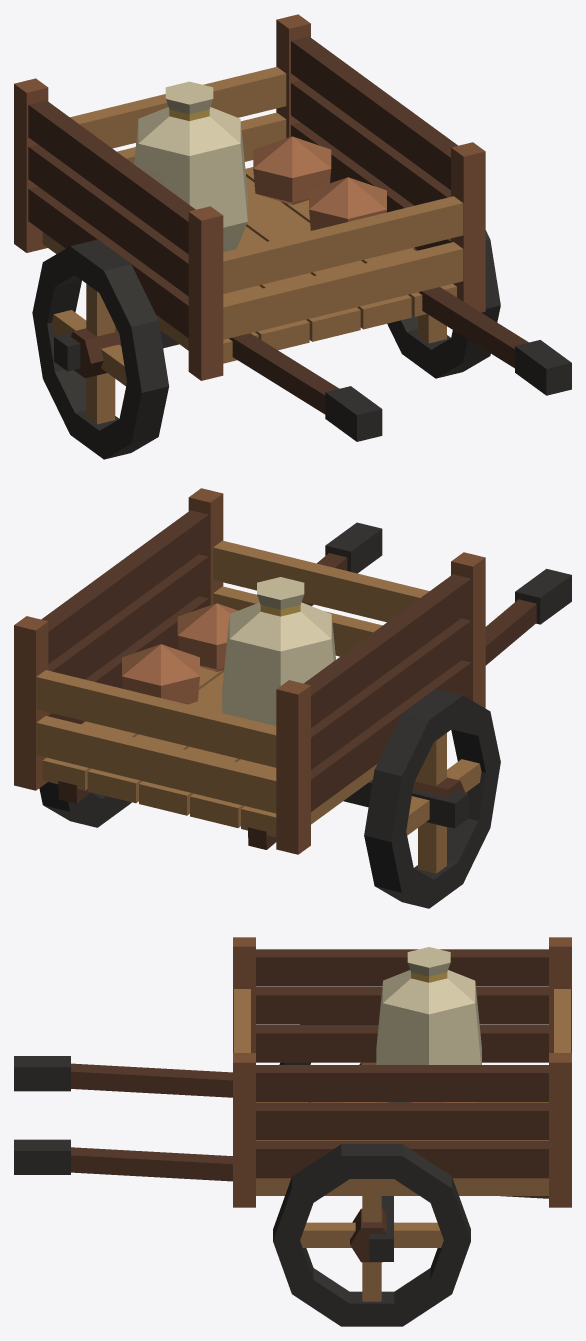
File: cart.glb
The picture shows the model from 3 angles, top to bottom: view 1: azimuth 30°, elevation 25°; view 2: azimuth 150°, elevation 25°; view 3: azimuth 270°, elevation 25°; orthographic projection. The views are drawn at different scales.
Parts seen in each view (by area): view 1: cart; view 2: cart; view 3: cart.
Part boxes in pixels (x1,y1,x2,y2): cart: (14, 14, 571, 459); cart: (14, 488, 571, 908); cart: (14, 937, 571, 1326).
Size of the model in its own units: 2.2 by 1.56 by 2.93.
